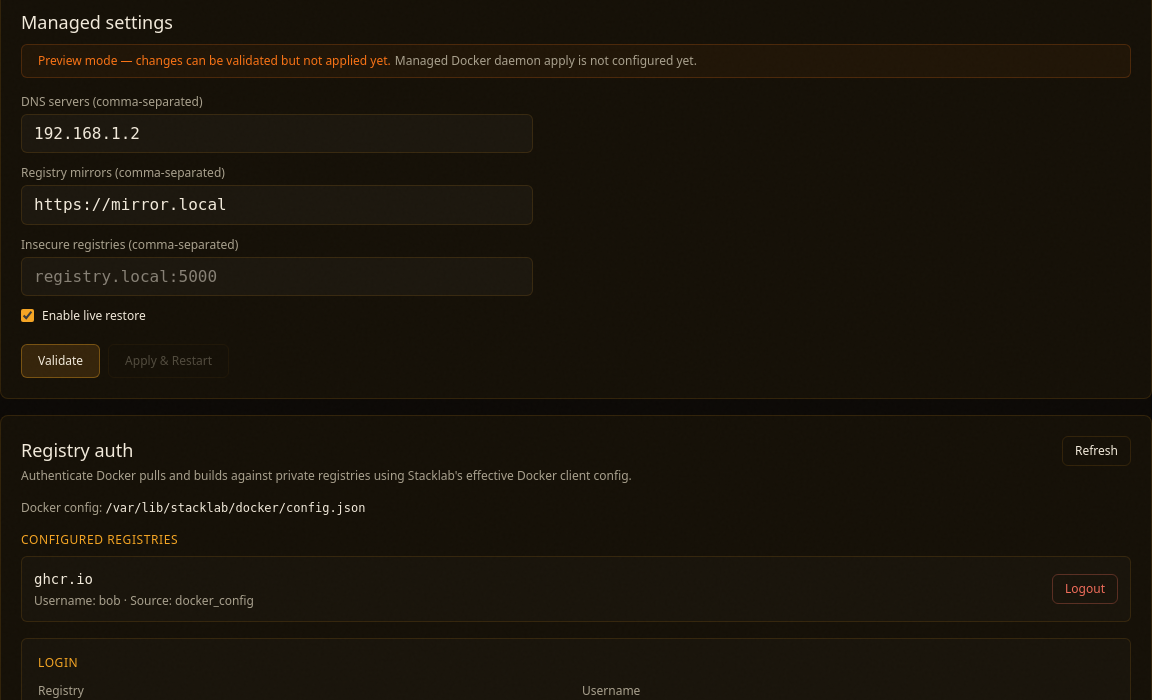
Test case: DockerAdminPage › shows inline validation error
(page scrolled)
Click the button "Validate": x=61, y=361 [21,344,100,378]
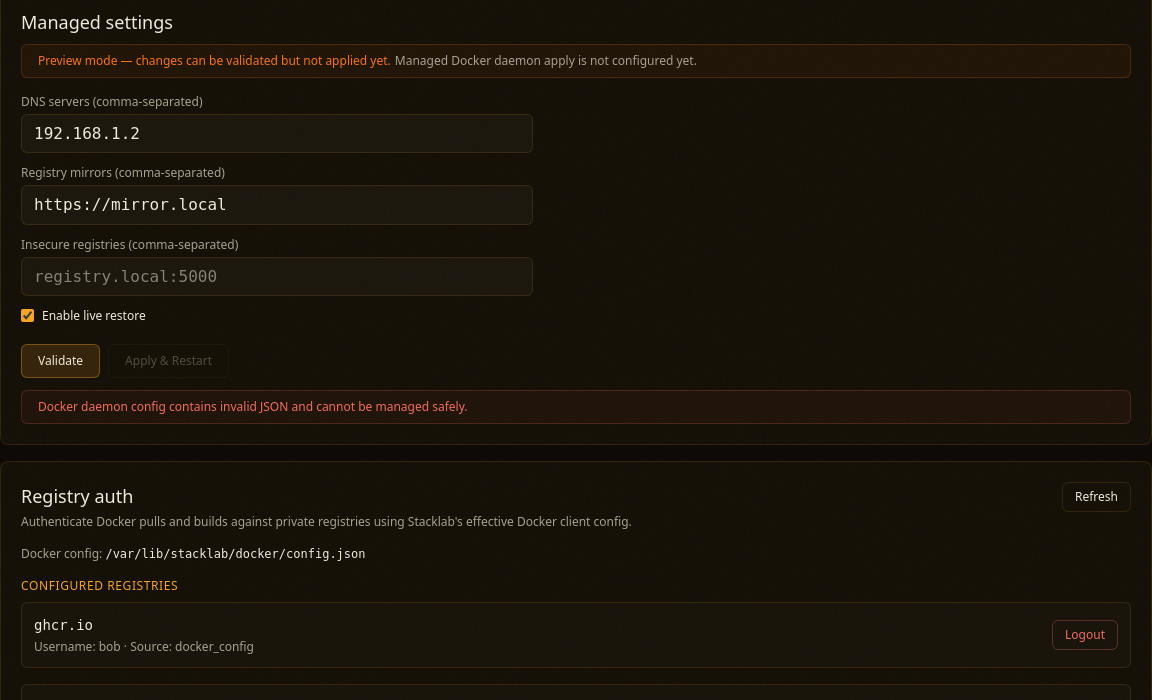
Expected: the text "cannot be managed safely" is shown, [38,398,468,415]
